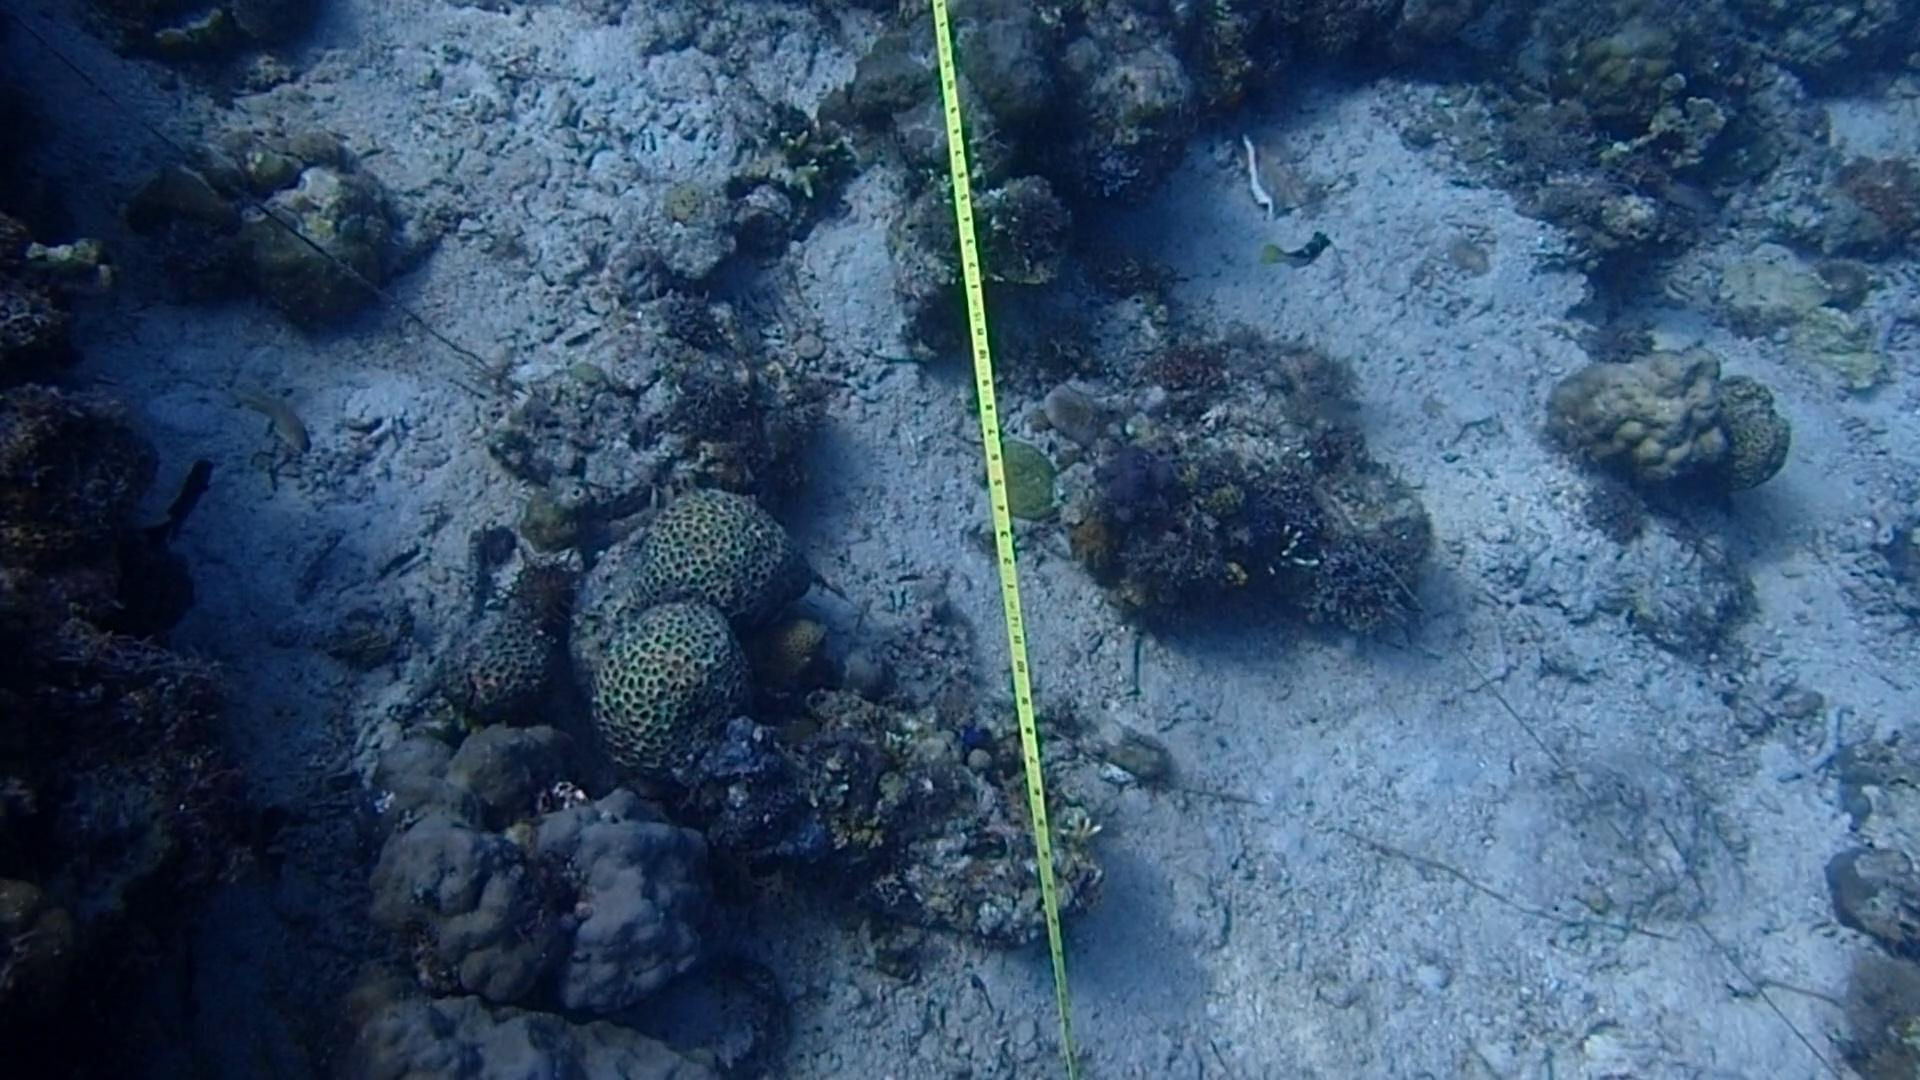Striped Fish: (1261, 223, 1335, 276)
